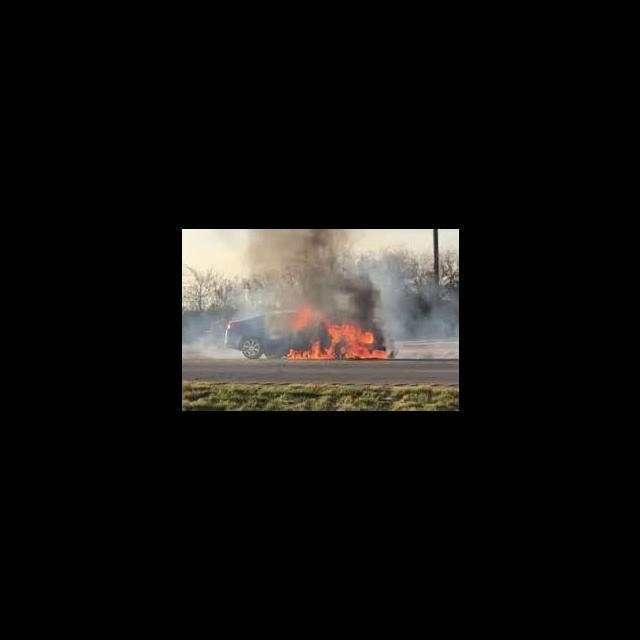Fire: (286, 322, 386, 362), (288, 306, 316, 328)
Smoke: (243, 229, 369, 305), (388, 286, 458, 359), (182, 315, 234, 361), (320, 280, 386, 314)
